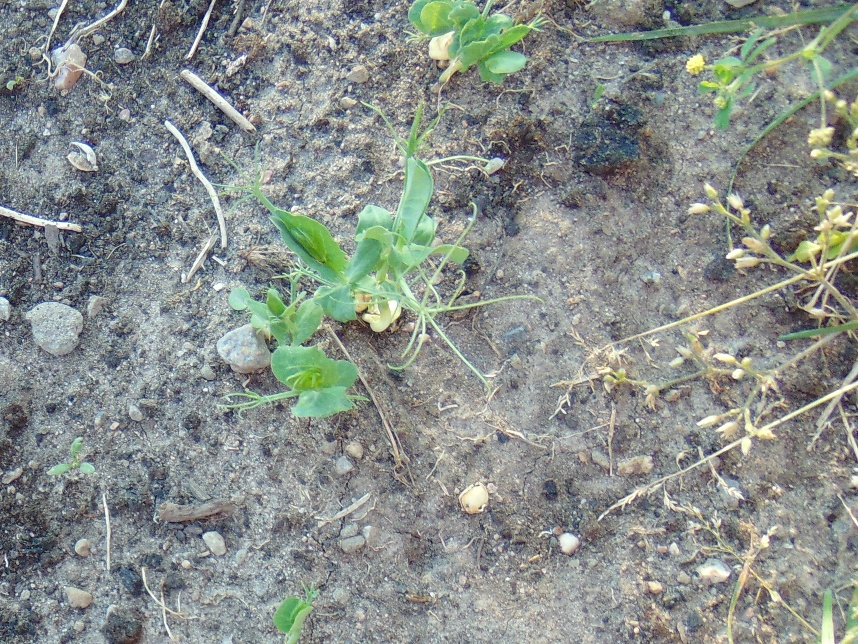crop: (231, 116, 471, 347), (234, 343, 379, 423), (404, 1, 537, 77), (245, 265, 344, 348), (271, 579, 324, 644)
weed: (692, 10, 858, 144), (692, 172, 858, 306), (810, 583, 858, 644)
